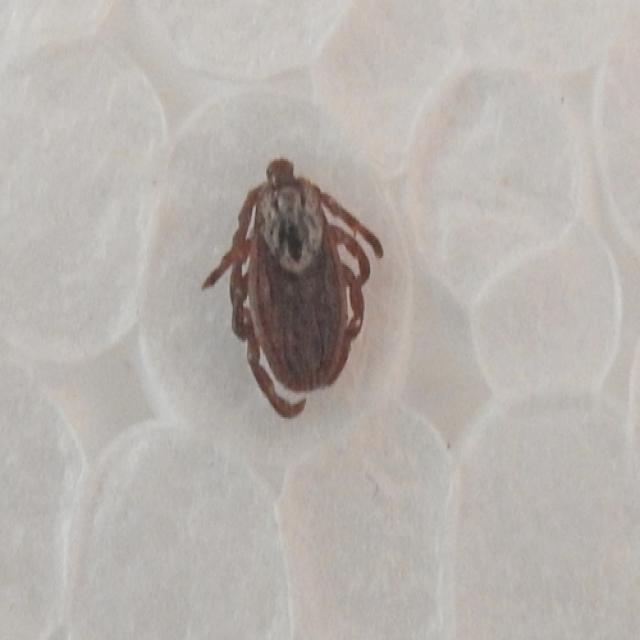Dermacentor Reticulatus-F: (206, 157, 383, 421)
